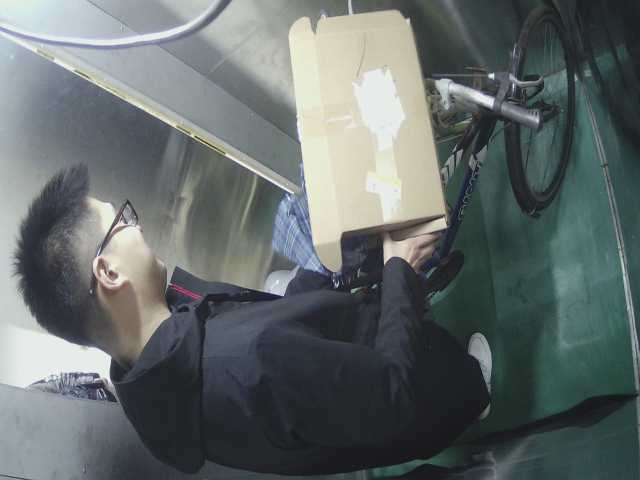bicycle: (272, 10, 598, 274)
person: (15, 154, 513, 455)
